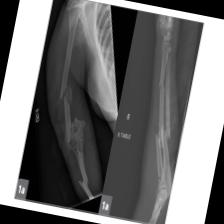comminuted-fracture: (15, 0, 204, 224)
